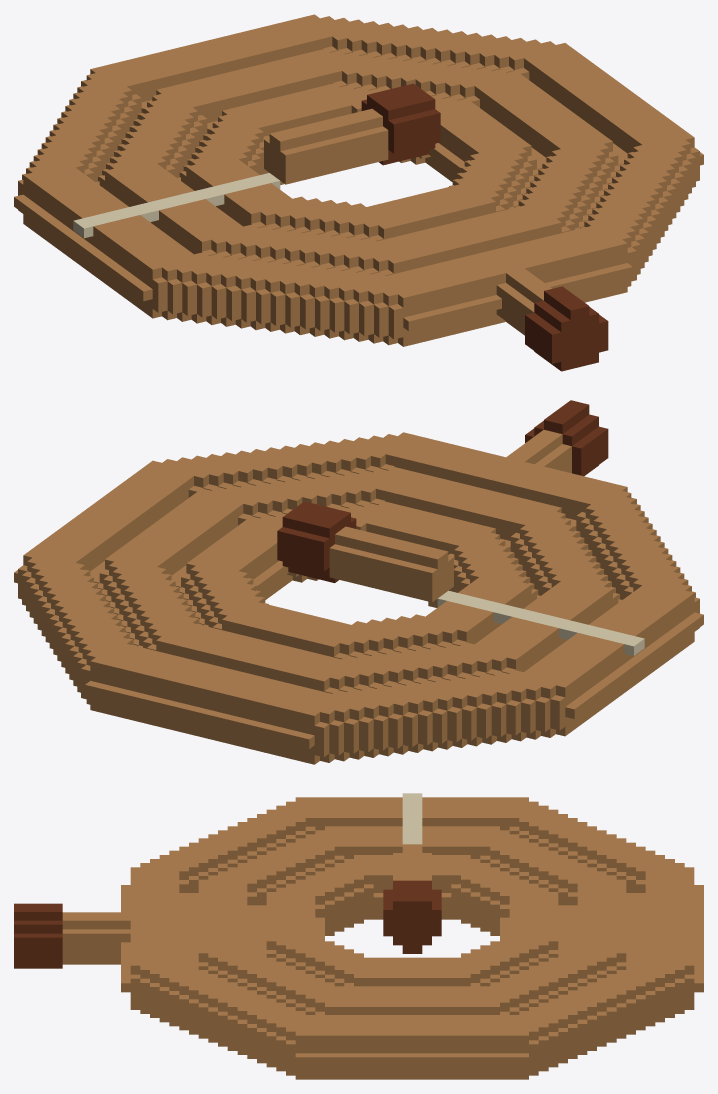
File: leather_hose.glb
3 renders of one model, top to bottom at view 1: azimuth 30°, elevation 25°; view 2: azimuth 150°, elevation 25°; view 3: azimuth 270°, elevation 25°, orthographic. The views are drawn at different scales.
Visible parts, largest first — view 1: leather_hose:compound; view 2: leather_hose:compound; view 3: leather_hose:compound.
Boxes of the visible parts, <box> form: leather_hose:compound: <box>14,14,703,371</box>; leather_hose:compound: <box>14,400,703,764</box>; leather_hose:compound: <box>14,793,703,1079</box>.
Size of the model in its own units: 0.24 by 0.04 by 0.284.
